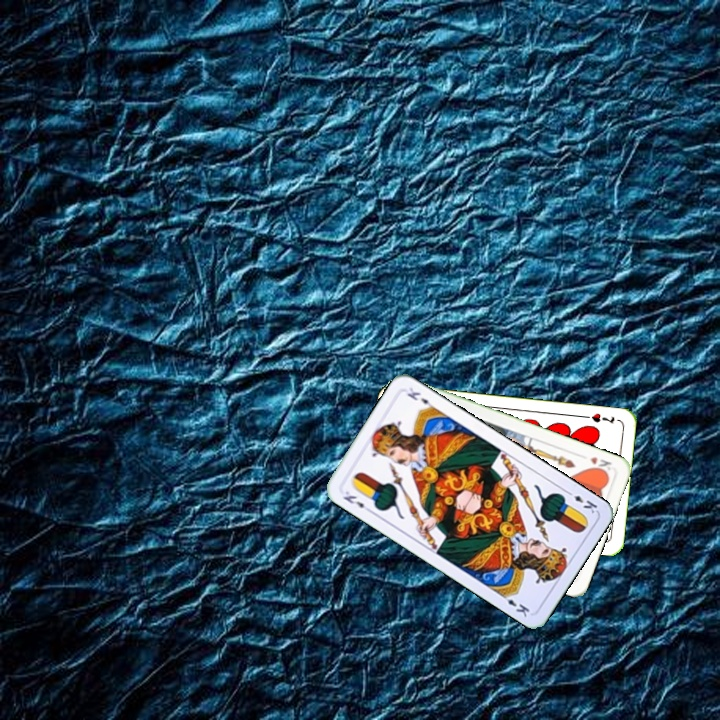EK: (562, 486, 600, 516), (339, 487, 374, 515)
H7: (580, 409, 617, 427)
HK: (586, 453, 616, 476)
